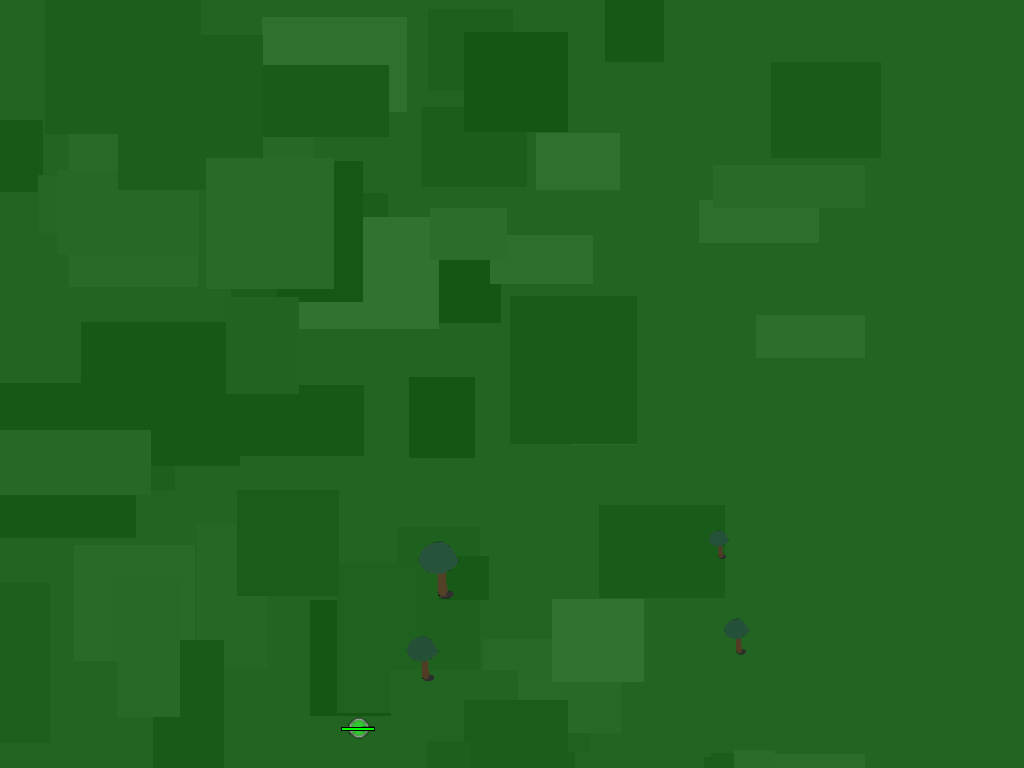Rifleman: (338, 707, 377, 746)
